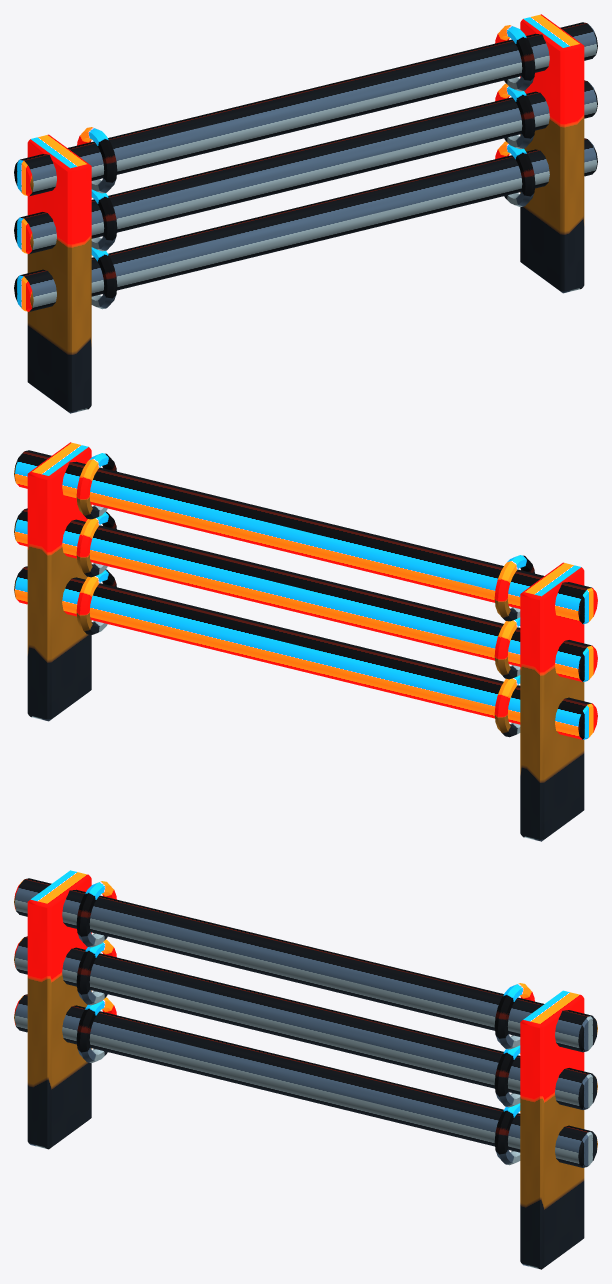
The model's file is Conduit_Rack.fbx.
The picture shows the model from 3 angles, top to bottom: view 1: azimuth 30°, elevation 25°; view 2: azimuth 150°, elevation 25°; view 3: azimuth 330°, elevation 25°; orthographic projection.
Visible parts, largest first — view 1: Conduit_Rack; view 2: Conduit_Rack; view 3: Conduit_Rack.
Boxes of the visible parts, x1=… form: Conduit_Rack: x1=14, y1=14, x2=597, y2=413; Conduit_Rack: x1=14, y1=442, x2=597, y2=841; Conduit_Rack: x1=14, y1=870, x2=597, y2=1269.
Size of the model in its own units: 3.8 by 1.65 by 0.5.
